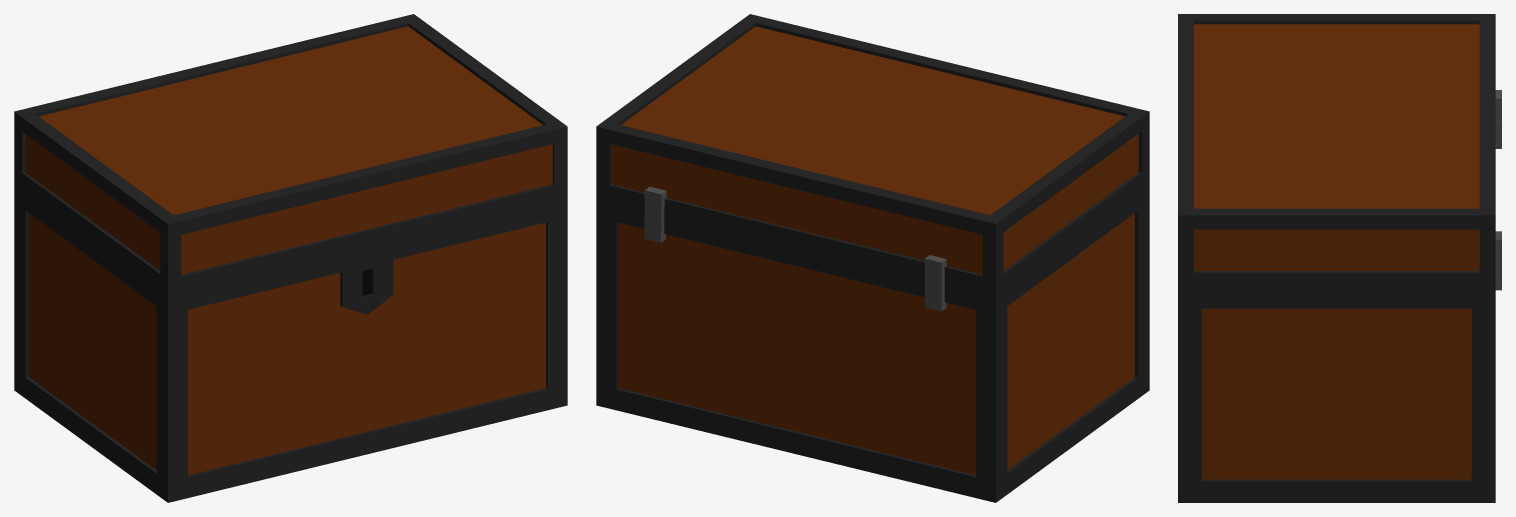
Rendered from Сундук.FBX.
3 renders of one model, left to right at view 1: azimuth 30°, elevation 25°; view 2: azimuth 150°, elevation 25°; view 3: azimuth 270°, elevation 25°, orthographic. The views are drawn at different scales.
Visible parts, largest first — view 1: Box001, Box002; view 2: Box001, Box002; view 3: Box002, Box001.
Part boxes in pixels (left/top/right/bottom): Box001: left=14, top=181, right=567, bottom=502; Box002: left=14, top=14, right=567, bottom=293; Box001: left=596, top=181, right=1149, bottom=502; Box002: left=596, top=14, right=1149, bottom=293; Box002: left=1178, top=14, right=1501, bottom=287; Box001: left=1178, top=120, right=1501, bottom=502.
Size of the model in its own units: 60 by 40 by 40.8.
